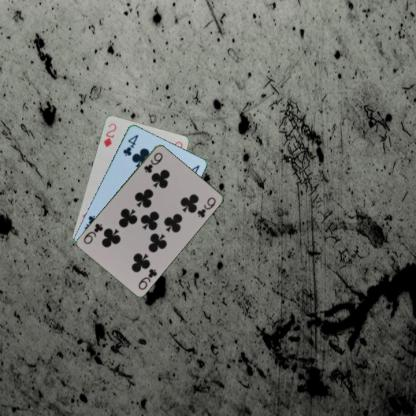2d: (101, 121, 117, 148)
4c: (120, 132, 140, 157)
9c: (142, 150, 164, 174), (136, 266, 158, 290)
